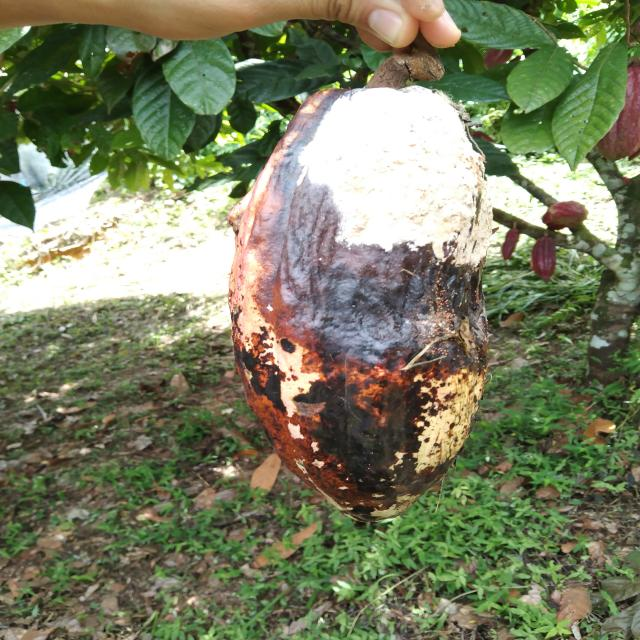Monilia: (226, 78, 514, 528)
Sana: (530, 232, 560, 288), (542, 203, 586, 225)
